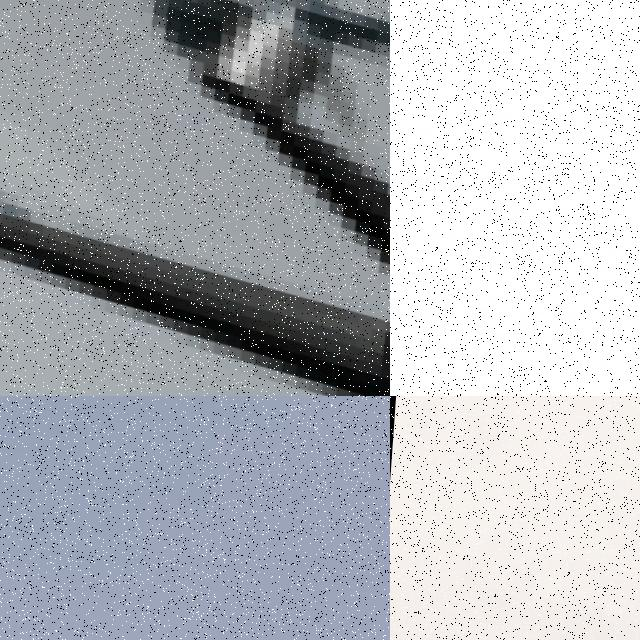drone: (0, 0, 390, 396)
